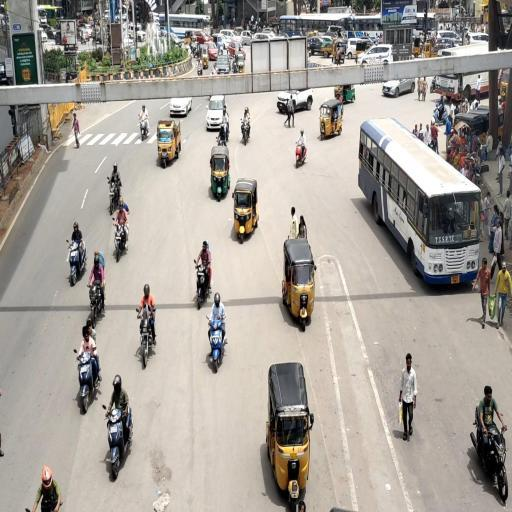helmet: (104, 353, 139, 484), (134, 264, 170, 369), (67, 214, 92, 290), (101, 158, 130, 221), (240, 104, 252, 146)
no helmet: (72, 319, 98, 409), (193, 233, 218, 308)
